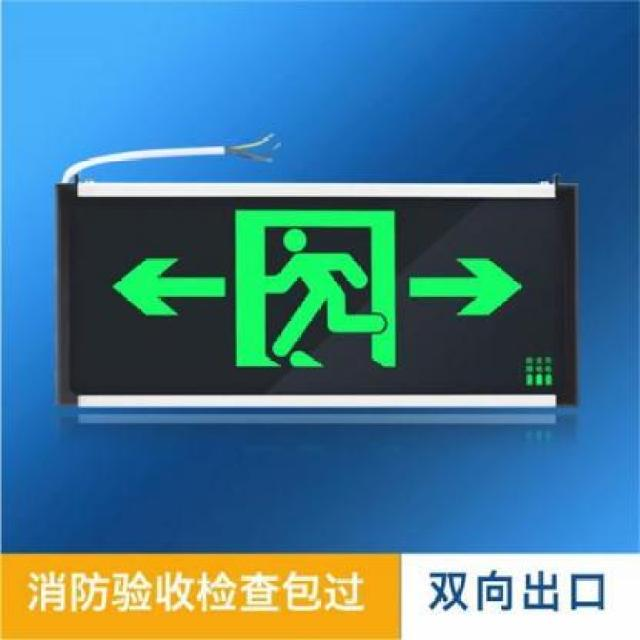exit_sign: (62, 175, 576, 412)
